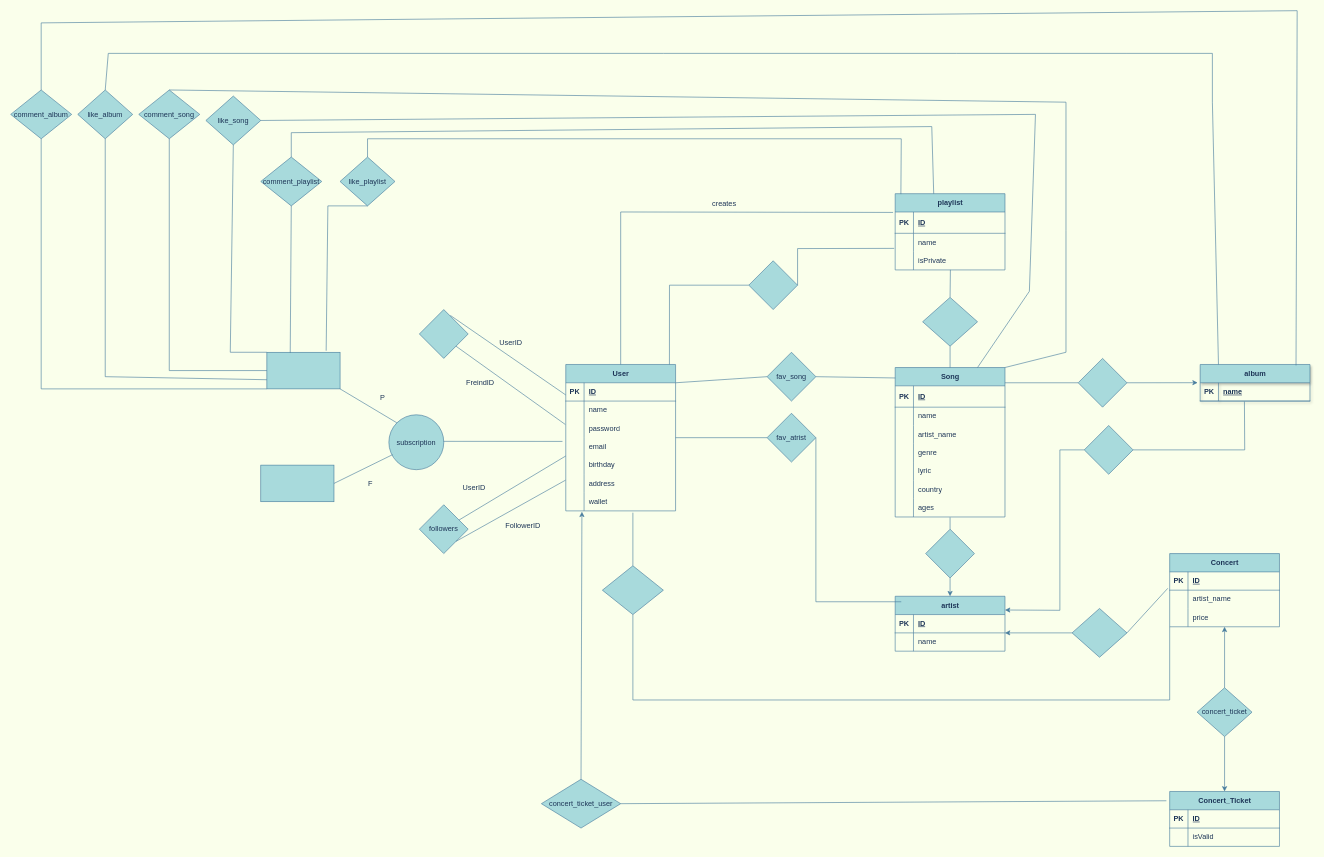
The diagram is 1324 pixels wide and 857 high, and some of its shapes have lost their labels. Each missing label, with the centre of its shape:
artist_album: pixel 1108 449
artist_concert: pixel 1099 632
artist_song: pixel 949 553
fav_playlist: pixel 773 285
free: pixel 297 483
freinds: pixel 443 333
playlist_song: pixel 950 321
primum: pixel 303 370
song_album: pixel 1102 382
user_concert: pixel 632 590
